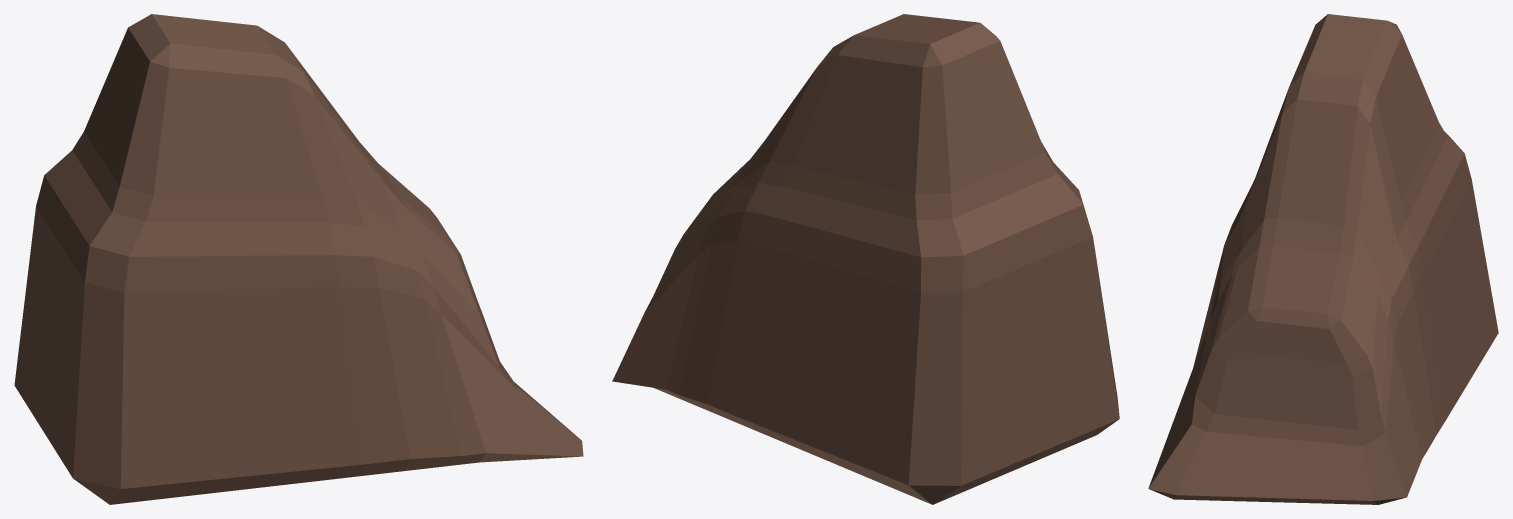
The model's file is rock3.fbx.
3 renders of one model, left to right at view 1: azimuth 30°, elevation 25°; view 2: azimuth 150°, elevation 25°; view 3: azimuth 270°, elevation 25°, orthographic. The views are drawn at different scales.
Visible parts, largest first — view 1: Rock1; view 2: Rock1; view 3: Rock1.
Part boxes in pixels (box(x1,y1,x2,y2)): Rock1: box(14, 14, 583, 504); Rock1: box(612, 14, 1119, 504); Rock1: box(1148, 14, 1498, 504).
Bounding box in the file's own units: 1501 × 1316 × 1179.
